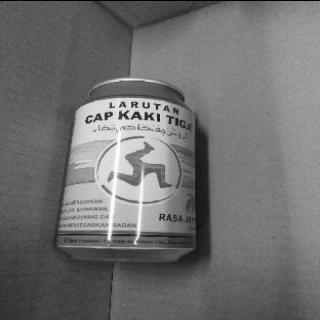alumunium_can: (55, 75, 199, 263)
